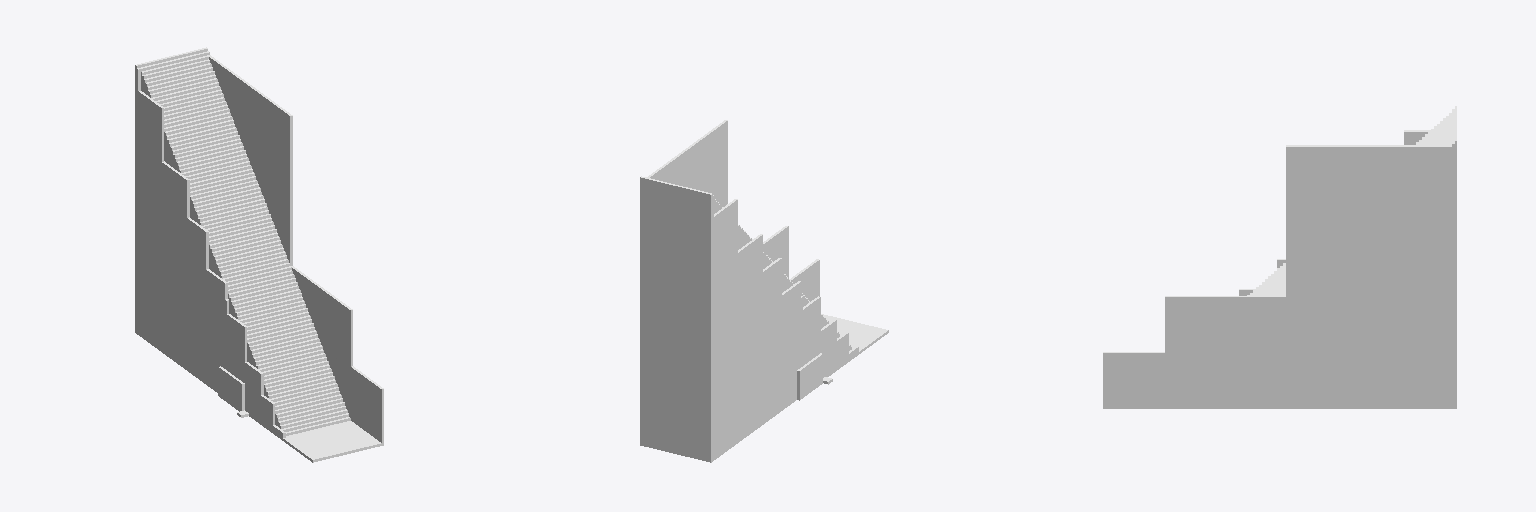
Rendered from Road5.obj.
3 renders of one model, left to right at view 1: azimuth 30°, elevation 25°; view 2: azimuth 150°, elevation 25°; view 3: azimuth 270°, elevation 25°, orthographic.
Visible parts, largest first — view 1: object 1; view 2: object 1; view 3: object 1.
Boxes of the visible parts, box(x1,y1,x2,y2) form: object 1: box(135, 47, 383, 462); object 1: box(640, 120, 888, 462); object 1: box(1103, 106, 1456, 408).
Bounding box in the file's own units: 3.1 × 10 × 12.